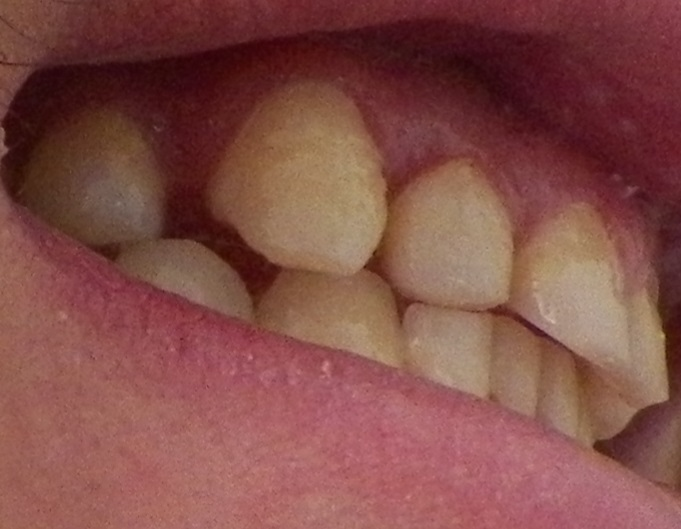boca: (29, 92, 676, 463)
